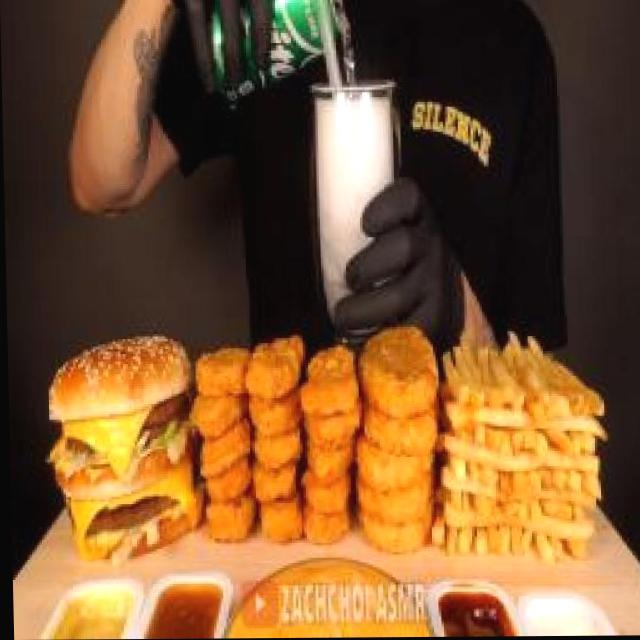Hashbrown: (353, 312, 448, 563)
burger: (48, 312, 196, 563)
french fries: (434, 320, 608, 576)
nugget: (191, 333, 358, 559)
sprite: (207, 0, 408, 167)
